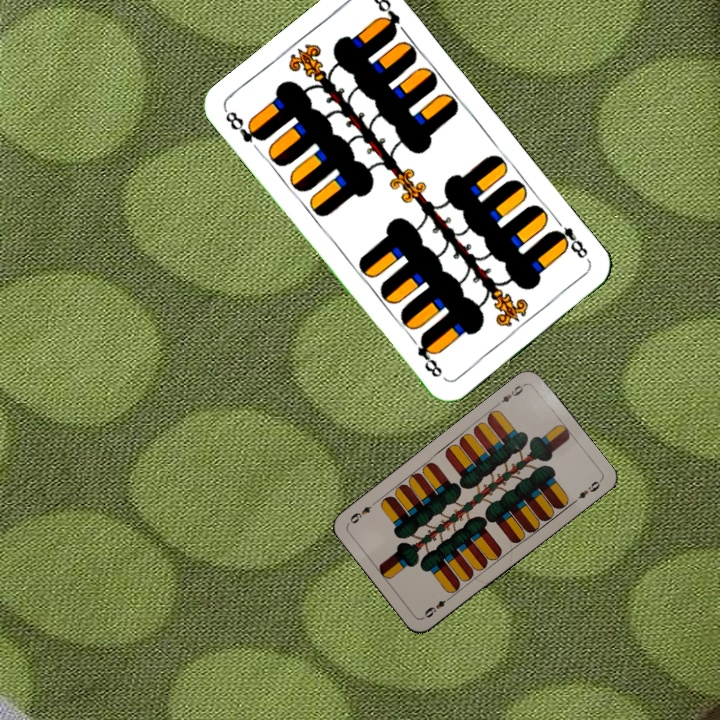E8: (547, 214, 591, 261), (221, 107, 268, 146)
E9: (493, 380, 528, 409), (420, 592, 454, 620)
